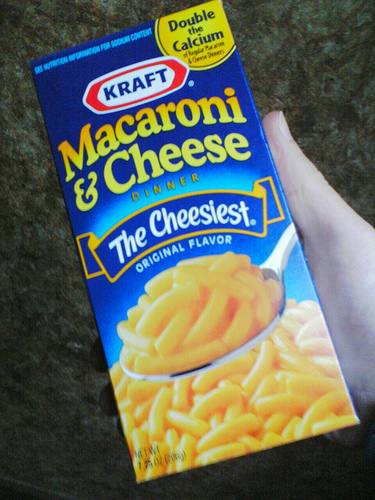macncheese: (109, 250, 359, 480)
